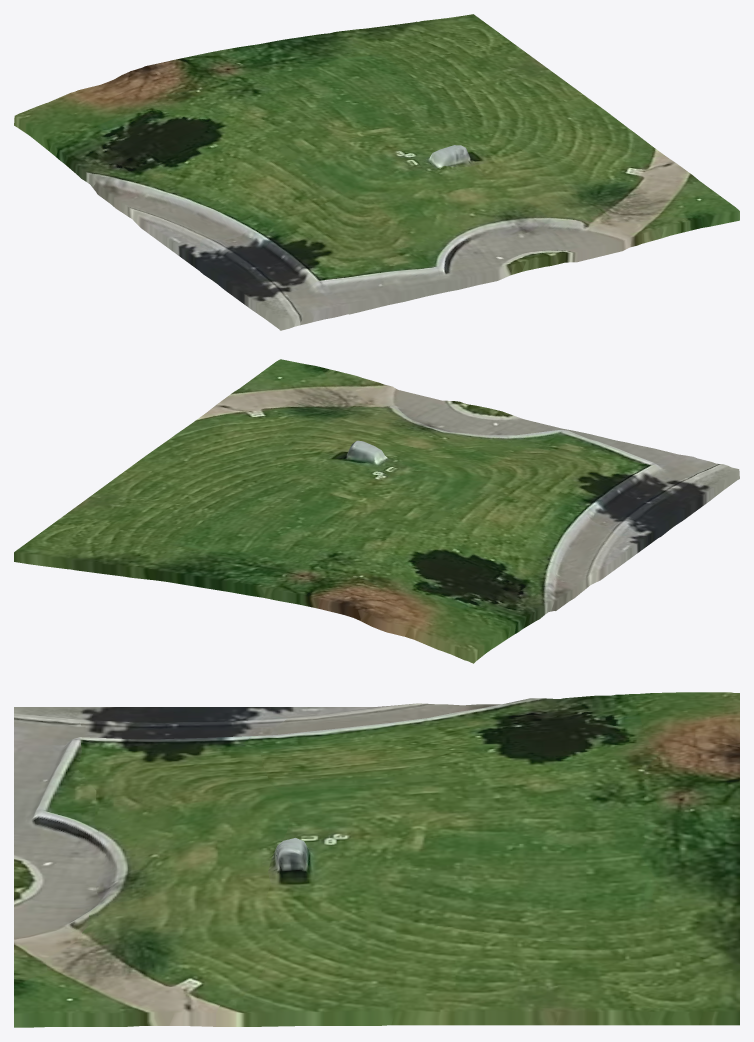
Rendered from z20-167785-405219-h0-yup-uvflip-v3-world.glb.
3 views of the same model, one above another, from view 1: azimuth 30°, elevation 25°; view 2: azimuth 150°, elevation 25°; view 3: azimuth 270°, elevation 25° (orthographic). The views are drawn at different scales.
Size of the model in its own units: 30.2 by 2.92 by 30.32.
Materials: 1 (1 with a texture image).
